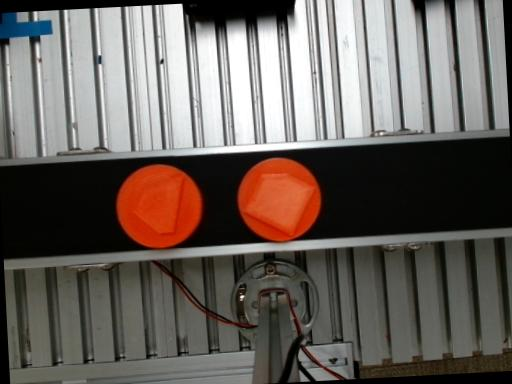Not_Square: (239, 173, 316, 238), (131, 173, 184, 234)
Orange_Waper: (115, 165, 203, 248), (237, 157, 320, 241)
